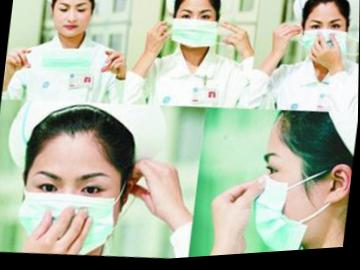NONE: (172, 5, 219, 54), (52, 1, 93, 43)
OK: (19, 149, 128, 264), (249, 143, 333, 257)
WRONG: (304, 13, 349, 69)
